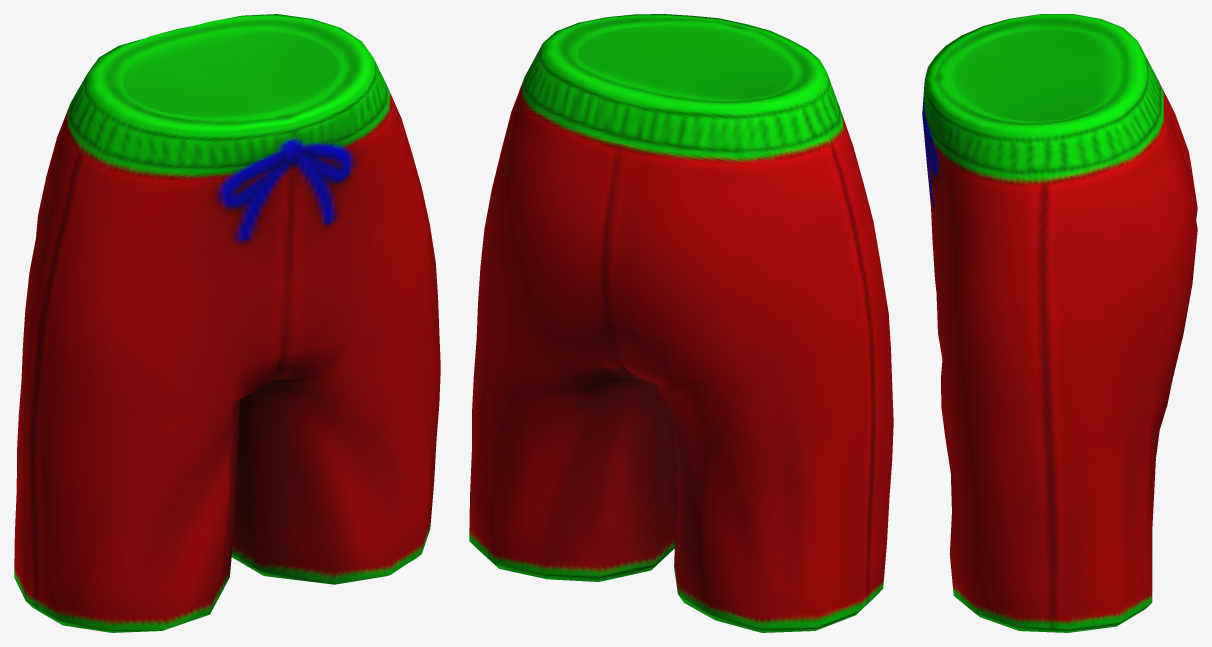
The model's file is Bottom_SwimShorts.obj.
3 renders of one model, left to right at view 1: azimuth 30°, elevation 25°; view 2: azimuth 150°, elevation 25°; view 3: azimuth 270°, elevation 25°, orthographic. The views are drawn at different scales.
Parts seen in each view (by area): view 1: Bottom_SwimShorts_0; view 2: Bottom_SwimShorts_0; view 3: Bottom_SwimShorts_0.
Part boxes in pixels (box(x1,y1,x2,y2)): Bottom_SwimShorts_0: box(14, 14, 440, 632); Bottom_SwimShorts_0: box(469, 14, 893, 632); Bottom_SwimShorts_0: box(922, 14, 1197, 632).
Size of the model in its own units: 0.3706 by 0.4621 by 0.2398.
1 material, 1 textured.
